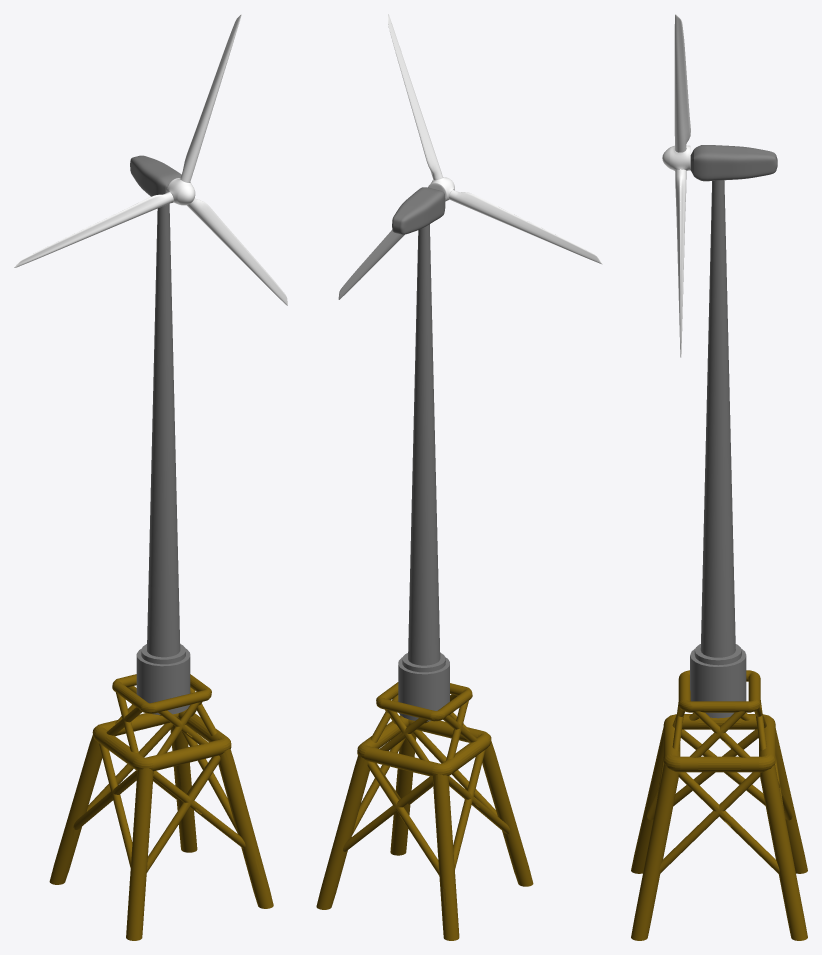
File: WindTurbine.obj
3 views of the same model, side by side, from view 1: azimuth 30°, elevation 25°; view 2: azimuth 150°, elevation 25°; view 3: azimuth 270°, elevation 25° (orthographic). The views are drawn at different scales.
Visible parts, largest first — view 1: pPipe127_lambert1.003, blades_with_rotor_lambert1.005, blades_with_rotor_eolico.001; view 2: pPipe127_lambert1.003, blades_with_rotor_lambert1.005, blades_with_rotor_eolico.001; view 3: pPipe127_lambert1.003, blades_with_rotor_lambert1.005, blades_with_rotor_eolico.001.
Boxes of the visible parts, box(x1,y1,x2,y2) form: pPipe127_lambert1.003: box(49, 674, 273, 940); blades_with_rotor_lambert1.005: box(130, 155, 190, 714); blades_with_rotor_eolico.001: box(14, 14, 287, 305); pPipe127_lambert1.003: box(316, 682, 533, 940); blades_with_rotor_lambert1.005: box(392, 187, 449, 721); blades_with_rotor_eolico.001: box(338, 14, 602, 299); pPipe127_lambert1.003: box(631, 670, 807, 940); blades_with_rotor_lambert1.005: box(690, 145, 777, 718); blades_with_rotor_eolico.001: box(662, 14, 690, 357).
Size of the model in its own units: 15.37 by 47.35 by 8.25.
